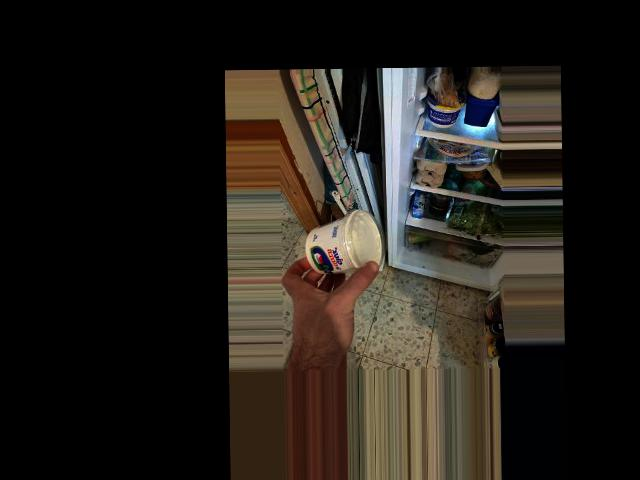cotage: (302, 207, 386, 285)
